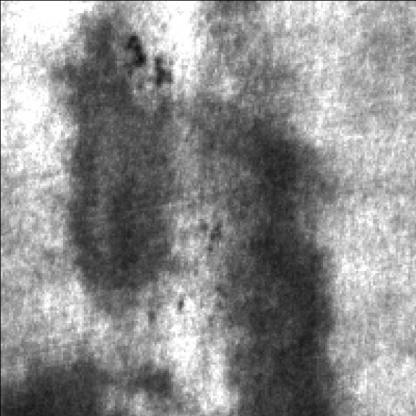patches: (215, 102, 343, 416), (56, 23, 179, 310), (2, 364, 183, 416)
